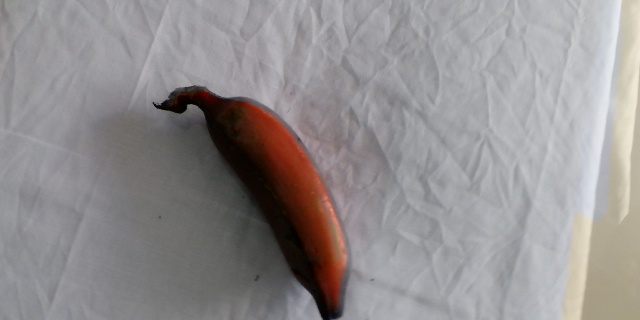banana_red: (159, 80, 350, 320)
